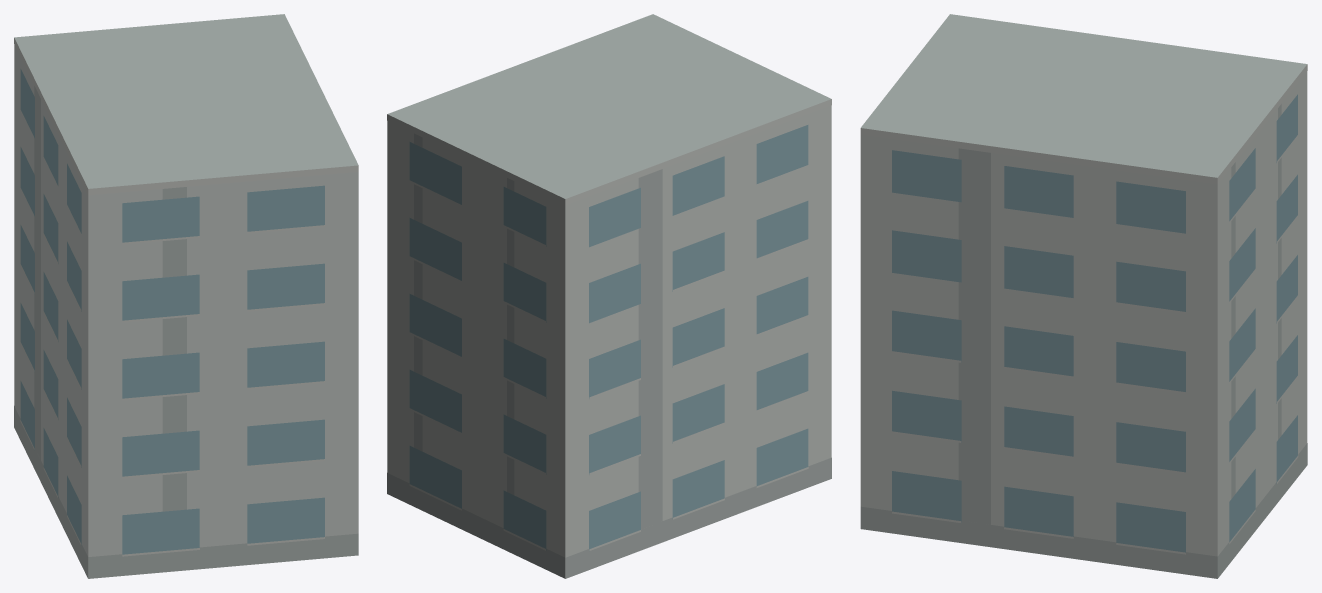
File: survey-upis-32801039.glb
3 views of the same model, side by side, from view 1: azimuth 30°, elevation 25°; view 2: azimuth 150°, elevation 25°; view 3: azimuth 270°, elevation 25° (orthographic). The views are drawn at different scales.
Parts seen in each view (by area): view 1: survey-upis-32801039.tmp; view 2: survey-upis-32801039.tmp; view 3: survey-upis-32801039.tmp.
Boxes of the visible parts, x1,y1,x2,y2 form: survey-upis-32801039.tmp: (14, 14, 358, 578); survey-upis-32801039.tmp: (387, 14, 831, 578); survey-upis-32801039.tmp: (860, 14, 1307, 578).
Bounding box in the file's own units: 12.76 × 14.55 × 14.71.
